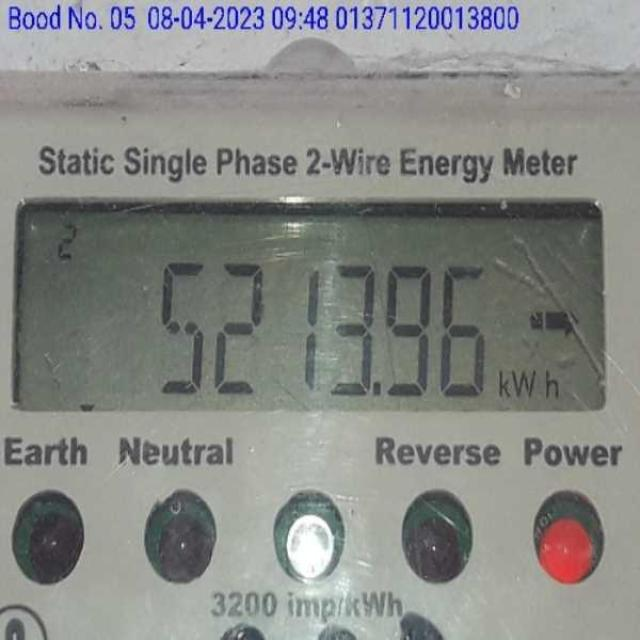1: (284, 257, 328, 400)
2: (213, 245, 271, 401)
3: (326, 251, 376, 402)
5: (154, 251, 209, 400)
6: (439, 253, 498, 407)
9: (385, 253, 435, 405)
Digital meter: (22, 204, 602, 414)
point: (369, 380, 390, 400)
